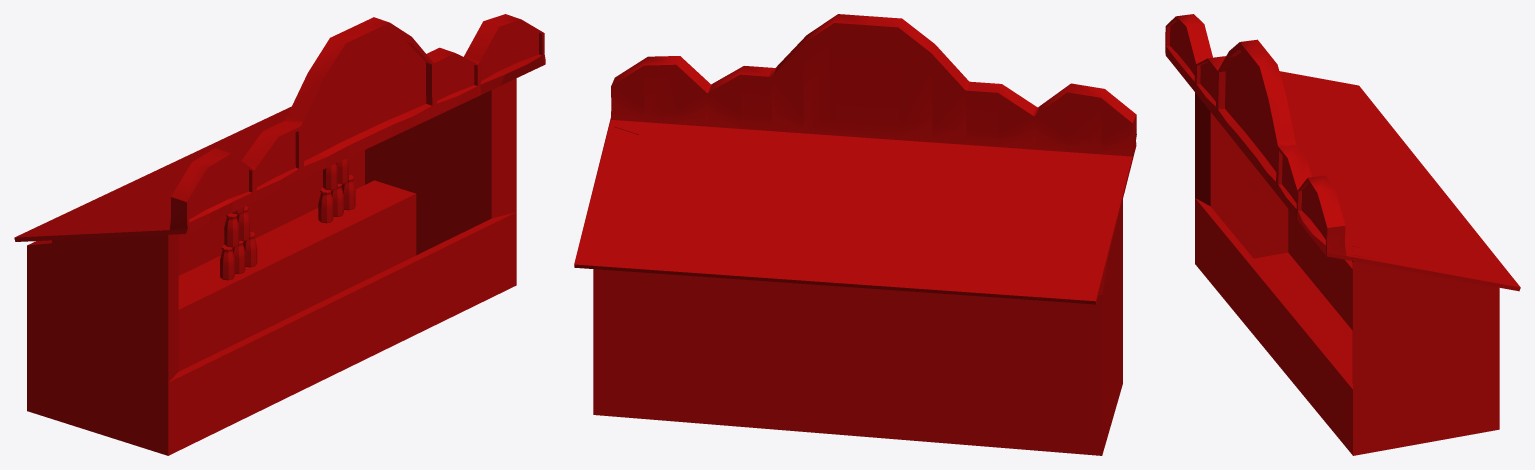
Rendered from MilkJugGAme.fbx.
3 renders of one model, left to right at view 1: azimuth 30°, elevation 25°; view 2: azimuth 150°, elevation 25°; view 3: azimuth 270°, elevation 25°, orthographic. The views are drawn at different scales.
Visible parts, largest first — view 1: Building, Roof3; view 2: Roof3, Building; view 3: Building, Roof3.
Boxes of the visible parts, bbox=[...] form: Building: bbox=[27, 78, 516, 455]; Roof3: bbox=[14, 14, 545, 241]; Roof3: bbox=[574, 14, 1136, 304]; Building: bbox=[593, 126, 1122, 455]; Building: bbox=[1195, 92, 1499, 455]; Roof3: bbox=[1165, 14, 1520, 291].
Bounding box in the file's own units: 8.52 × 5.47 × 5.67.
